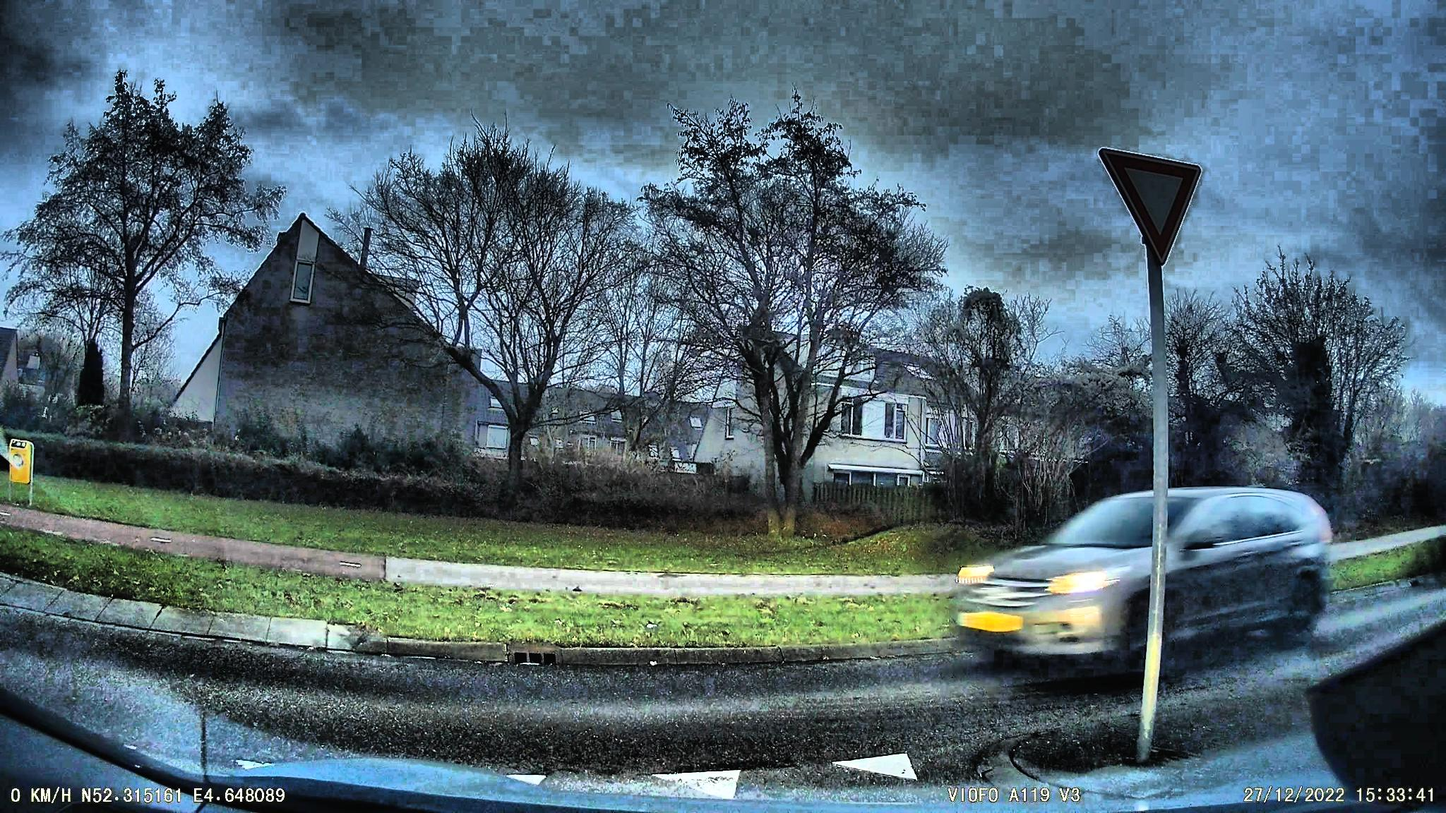Roads: (0, 620, 1378, 802)
